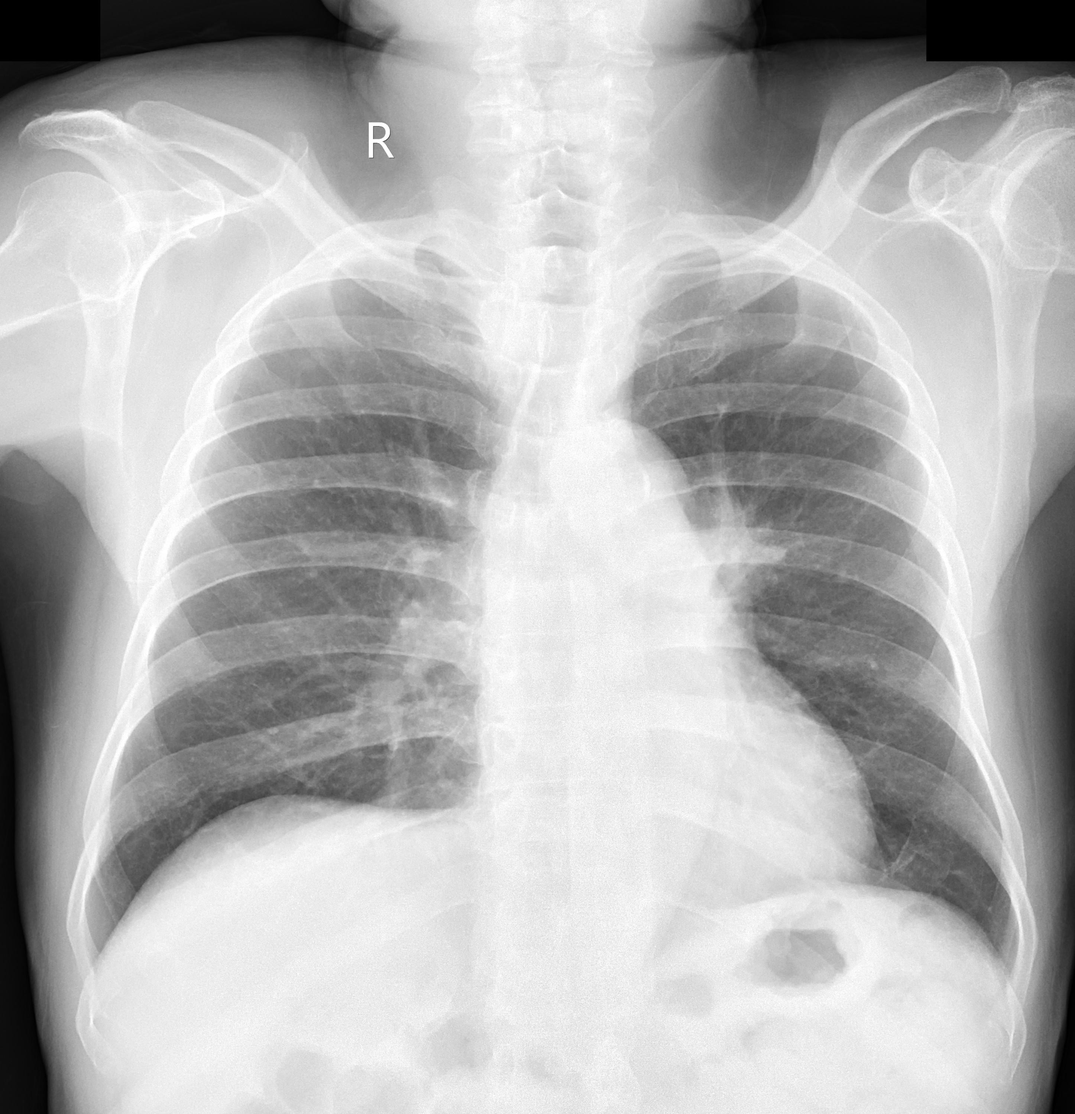Aortic enlargement: (532, 409, 697, 566)
